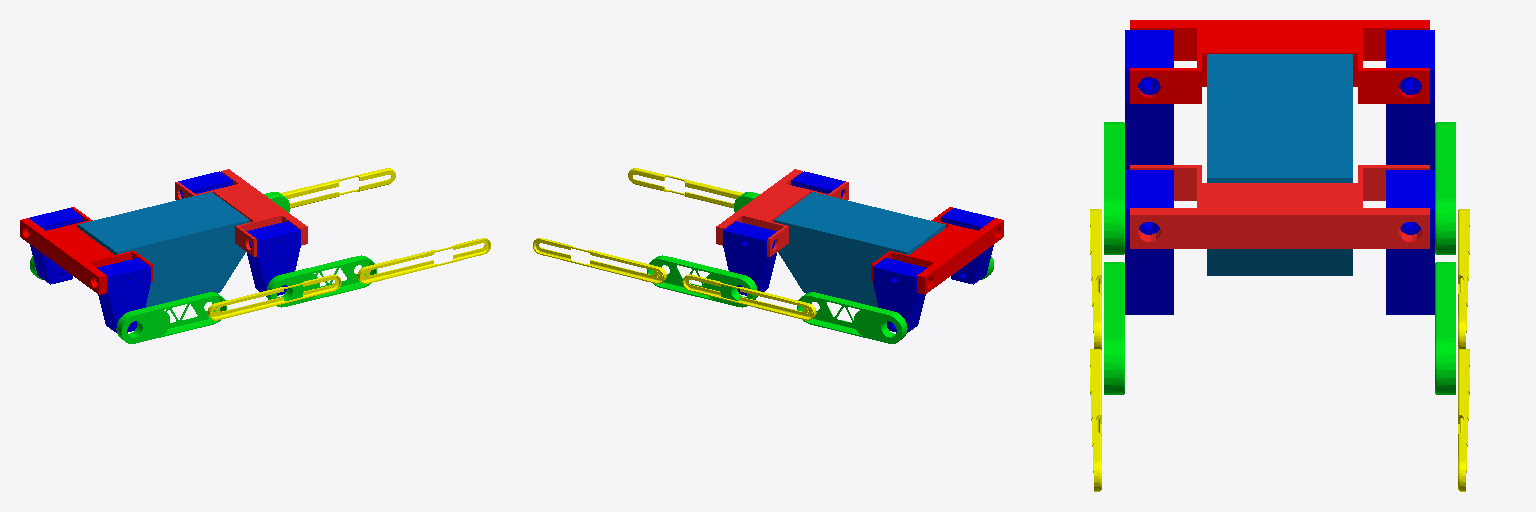
The robot description file, URDF, robot "aragog_urdf":
<?xml version="1.0" encoding="utf-8"?>
<!-- This URDF was automatically created by SolidWorks to URDF Exporter! Originally created by [author] ([email redacted]) 
     Commit Version: 1.5.0-0-g9aa0fdb  Build Version: 1.5.7004.21443
     For more information, please see http://wiki.ros.org/sw_urdf_exporter -->
<robot
  name="aragog_urdf">
  <link
    name="base_link">
    <inertial>
      <origin
        xyz="-5.45551002226673E-17 1.34529368211767E-18 0.00531609098066728"
        rpy="0 0 0" />
      <mass
        value="3.32238920691748" />
      <inertia
        ixx="0.00811436673472104"
        ixy="-4.30296161001022E-19"
        ixz="-1.84347865210351E-19"
        iyy="0.0180496934141333"
        iyz="1.03429844178161E-19"
        izz="0.0187962771271448" />
    </inertial>
    <visual>
      <origin
        xyz="0 0 0"
        rpy="0 0 0" />
      <geometry>
        <mesh
          filename="package://aragog_urdf/meshes/base_link.STL" />
      </geometry>
      <material
        name="blue">
        <color
          rgba="0.0392156862745098 0.490196078431373 0.709803921568627 1" />
      </material>
    </visual>
    <collision>
      <origin
        xyz="0 0 0"
        rpy="0 0 0" />
      <geometry>
        <mesh
          filename="package://aragog_urdf/meshes/base_link.STL" />
      </geometry>
    </collision>
  </link>
  <link
    name="Front_module">
    <inertial>
      <origin
        xyz="-0.0497172643592256 6.86395702539619E-17 4.85722573273506E-17"
        rpy="0 0 0" />
      <mass
        value="0.376403583442598" />
      <inertia
        ixx="0.00122457497789135"
        ixy="2.18535755074101E-19"
        ixz="-1.53202230184357E-20"
        iyy="0.000273263744958828"
        iyz="1.62050311598109E-19"
        izz="0.00143195312999982" />
    </inertial>
    <visual>
      <origin
        xyz="0 0 0"
        rpy="0 0 0" />
      <geometry>
        <mesh
          filename="package://aragog_urdf/meshes/Front_module.STL" />
      </geometry>
      <material
        name="">
        <color
          rgba="1 0 0 1" />
      </material>
    </visual>
    <collision>
      <origin
        xyz="0 0 0"
        rpy="0 0 0" />
      <geometry>
        <mesh
          filename="package://aragog_urdf/meshes/Front_module.STL" />
      </geometry>
    </collision>
  </link>
  <joint
    name="FM_joint"
    type="revolute">
    <origin
      xyz="-0.115 0 0.042"
      rpy="0 0 0" />
    <parent
      link="base_link" />
    <child
      link="Front_module" />
    <axis
      xyz="0 1 0" />
    <limit
      lower="-3.14"
      upper="3.14"
      effort="0"
      velocity="0" />
    <safety_controller
      k_velocity="0" />
  </joint>
  <link
    name="FLA">
    <inertial>
      <origin
        xyz="-0.0278699932792812 -0.0349280778773409 1.06796636395456E-08"
        rpy="0 0 0" />
      <mass
        value="0.295029754126894" />
      <inertia
        ixx="0.000309535633973418"
        ixy="-5.80478947344437E-11"
        ixz="1.43627711665173E-11"
        iyy="0.000169221307104425"
        iyz="-1.00079234323134E-11"
        izz="0.000390392374765467" />
    </inertial>
    <visual>
      <origin
        xyz="0 0 0"
        rpy="0 0 0" />
      <geometry>
        <mesh
          filename="package://aragog_urdf/meshes/FLA.STL" />
      </geometry>
      <material
        name="">
        <color
          rgba="0 0 1 1" />
      </material>
    </visual>
    <collision>
      <origin
        xyz="0 0 0"
        rpy="0 0 0" />
      <geometry>
        <mesh
          filename="package://aragog_urdf/meshes/FLA.STL" />
      </geometry>
    </collision>
  </link>
  <joint
    name="FLA_joint"
    type="revolute">
    <origin
      xyz="0 -0.11275 0"
      rpy="1.5707963267949 0 0" />
    <parent
      link="Front_module" />
    <child
      link="FLA" />
    <axis
      xyz="1 0 0" />
    <limit
      lower="-3.14"
      upper="3.14"
      effort="0"
      velocity="0" />
    <safety_controller
      k_velocity="0" />
  </joint>
  <link
    name="FLH">
    <inertial>
      <origin
        xyz="2.12419992786303E-05 -0.0411680002134707 0.00875381508802056"
        rpy="0 0 0" />
      <mass
        value="0.08" />
      <inertia
        ixx="0.000181237968458974"
        ixy="8.77373051205217E-08"
        ixz="1.54511395588275E-08"
        iyy="2.6110291682208E-05"
        iyz="-2.67712058288425E-06"
        izz="0.000202371902016721" />
    </inertial>
    <visual>
      <origin
        xyz="0 0 0"
        rpy="0 0 0" />
      <geometry>
        <mesh
          filename="package://aragog_urdf/meshes/FLH.STL" />
      </geometry>
      <material
        name="">
        <color
          rgba="0 0.937254901960784 0.125490196078431 1" />
      </material>
    </visual>
    <collision>
      <origin
        xyz="0 0 0"
        rpy="0 0 0" />
      <geometry>
        <mesh
          filename="package://aragog_urdf/meshes/FLH.STL" />
      </geometry>
    </collision>
  </link>
  <joint
    name="FLH_joint"
    type="revolute">
    <origin
      xyz="-0.0278699999999998 -0.0830127664691537 0.021"
      rpy="0 0 1.5707963267949" />
    <parent
      link="FLA" />
    <child
      link="FLH" />
    <axis
      xyz="0 0 -1" />
    <limit
      lower="-3.14"
      upper="3.14"
      effort="0"
      velocity="0" />
    <safety_controller
      k_velocity="0" />
  </joint>
  <link
    name="FLK">
    <inertial>
      <origin
        xyz="3.6644108067363E-08 0.100111301705053 0.00305521968276382"
        rpy="0 0 0" />
      <mass
        value="0.0167134646126867" />
      <inertia
        ixx="0.00010038228684169"
        ixy="3.71456275042034E-13"
        ixz="-2.21427736998955E-12"
        iyy="2.07821056706645E-06"
        iyz="3.82445657532547E-07"
        izz="0.000102234595439406" />
    </inertial>
    <visual>
      <origin
        xyz="0 0 0"
        rpy="0 0 0" />
      <geometry>
        <mesh
          filename="package://aragog_urdf/meshes/FLK.STL" />
      </geometry>
      <material
        name="">
        <color
          rgba="1 1 0 1" />
      </material>
    </visual>
    <collision>
      <origin
        xyz="0 0 0"
        rpy="0 0 0" />
      <geometry>
        <mesh
          filename="package://aragog_urdf/meshes/FLK.STL" />
      </geometry>
    </collision>
  </link>
  <joint
    name="FLK_joint"
    type="revolute">
    <origin
      xyz="0 -0.15 0.02"
      rpy="0 0 3.14159265358979" />
    <parent
      link="FLH" />
    <child
      link="FLK" />
    <axis
      xyz="0 0 1" />
    <limit
      lower="-3.14"
      upper="3.14"
      effort="0"
      velocity="0" />
    <safety_controller
      k_velocity="0" />
  </joint>
  <link
    name="FRA">
    <inertial>
      <origin
        xyz="-0.0278699932792812 -0.0349280778773409 1.06796637089346E-08"
        rpy="0 0 0" />
      <mass
        value="0.295029754126894" />
      <inertia
        ixx="0.000309535633973418"
        ixy="-5.80478947169105E-11"
        ixz="1.43627711554638E-11"
        iyy="0.000169221307104425"
        iyz="-1.00079234263126E-11"
        izz="0.000390392374765467" />
    </inertial>
    <visual>
      <origin
        xyz="0 0 0"
        rpy="0 0 0" />
      <geometry>
        <mesh
          filename="package://aragog_urdf/meshes/FRA.STL" />
      </geometry>
      <material
        name="">
        <color
          rgba="0 0 1 1" />
      </material>
    </visual>
    <collision>
      <origin
        xyz="0 0 0"
        rpy="0 0 0" />
      <geometry>
        <mesh
          filename="package://aragog_urdf/meshes/FRA.STL" />
      </geometry>
    </collision>
  </link>
  <joint
    name="FRA_joint"
    type="revolute">
    <origin
      xyz="0 0.11275 0"
      rpy="1.5707963267949 0 0" />
    <parent
      link="Front_module" />
    <child
      link="FRA" />
    <axis
      xyz="1 0 0" />
    <limit
      lower="-3.14"
      upper="3.14"
      effort="0"
      velocity="0" />
    <safety_controller
      k_velocity="0" />
  </joint>
  <link
    name="FRH">
    <inertial>
      <origin
        xyz="-2.12419992784707E-05 -0.0411680002134707 -0.00875381508802756"
        rpy="0 0 0" />
      <mass
        value="0.08" />
      <inertia
        ixx="0.000181237968458974"
        ixy="-8.77373051204196E-08"
        ixz="1.54511395588163E-08"
        iyy="2.6110291682208E-05"
        iyz="2.67712058288413E-06"
        izz="0.000202371902016721" />
    </inertial>
    <visual>
      <origin
        xyz="0 0 0"
        rpy="0 0 0" />
      <geometry>
        <mesh
          filename="package://aragog_urdf/meshes/FRH.STL" />
      </geometry>
      <material
        name="">
        <color
          rgba="0 0.937254901960784 0.125490196078431 1" />
      </material>
    </visual>
    <collision>
      <origin
        xyz="0 0 0"
        rpy="0 0 0" />
      <geometry>
        <mesh
          filename="package://aragog_urdf/meshes/FRH.STL" />
      </geometry>
    </collision>
  </link>
  <joint
    name="FRH_joint"
    type="revolute">
    <origin
      xyz="-0.0278699999999998 -0.0830127664691537 -0.021"
      rpy="0 0 1.5707963267949" />
    <parent
      link="FRA" />
    <child
      link="FRH" />
    <axis
      xyz="0 0 -1" />
    <limit
      lower="-3.14"
      upper="3.14"
      effort="0"
      velocity="0" />
    <safety_controller
      k_velocity="0" />
  </joint>
  <link
    name="FRK">
    <inertial>
      <origin
        xyz="-3.66441086710467E-08 0.100111301705053 -0.00305521968276384"
        rpy="0 0 0" />
      <mass
        value="0.0167134646126866" />
      <inertia
        ixx="0.00010038228684169"
        ixy="-3.7145593913377E-13"
        ixz="-2.21427736900092E-12"
        iyy="2.07821056706645E-06"
        iyz="-3.82445657532456E-07"
        izz="0.000102234595439406" />
    </inertial>
    <visual>
      <origin
        xyz="0 0 0"
        rpy="0 0 0" />
      <geometry>
        <mesh
          filename="package://aragog_urdf/meshes/FRK.STL" />
      </geometry>
      <material
        name="">
        <color
          rgba="1 1 0 1" />
      </material>
    </visual>
    <collision>
      <origin
        xyz="0 0 0"
        rpy="0 0 0" />
      <geometry>
        <mesh
          filename="package://aragog_urdf/meshes/FRK.STL" />
      </geometry>
    </collision>
  </link>
  <joint
    name="FRK_joint"
    type="revolute">
    <origin
      xyz="0 -0.15 -0.0200000000000002"
      rpy="0 0 3.14159265358979" />
    <parent
      link="FRH" />
    <child
      link="FRK" />
    <axis
      xyz="0 0 1" />
    <limit
      lower="-3.14"
      upper="3.14"
      effort="0"
      velocity="0" />
    <safety_controller
      k_velocity="0" />
  </joint>
  <link
    name="Back_module">
    <inertial>
      <origin
        xyz="0.0497172643592256 7.87660632798329E-17 0"
        rpy="0 0 0" />
      <mass
        value="0.376403583442599" />
      <inertia
        ixx="0.00122457497789136"
        ixy="-4.00655797350407E-19"
        ixz="-1.36787983258632E-20"
        iyy="0.000273263744958829"
        iyz="2.59747855753548E-20"
        izz="0.00143195312999983" />
    </inertial>
    <visual>
      <origin
        xyz="0 0 0"
        rpy="0 0 0" />
      <geometry>
        <mesh
          filename="package://aragog_urdf/meshes/Back_module.STL" />
      </geometry>
      <material
        name="">
        <color
          rgba="1 0.168627450980392 0.168627450980392 1" />
      </material>
    </visual>
    <collision>
      <origin
        xyz="0 0 0"
        rpy="0 0 0" />
      <geometry>
        <mesh
          filename="package://aragog_urdf/meshes/Back_module.STL" />
      </geometry>
    </collision>
  </link>
  <joint
    name="BM_joint"
    type="revolute">
    <origin
      xyz="0.115 0 0.042"
      rpy="0 0 0" />
    <parent
      link="base_link" />
    <child
      link="Back_module" />
    <axis
      xyz="0 1 0" />
    <limit
      lower="-3.14"
      upper="3.14"
      effort="0"
      velocity="0" />
    <safety_controller
      k_velocity="0" />
  </joint>
  <link
    name="BLA">
    <inertial>
      <origin
        xyz="0.0278700067207168 -0.0349280778773408 1.06796638615902E-08"
        rpy="0 0 0" />
      <mass
        value="0.295029754126894" />
      <inertia
        ixx="0.000309535633973418"
        ixy="-5.80478947641281E-11"
        ixz="1.43627711663126E-11"
        iyy="0.000169221307104425"
        iyz="-1.00079234311191E-11"
        izz="0.000390392374765467" />
    </inertial>
    <visual>
      <origin
        xyz="0 0 0"
        rpy="0 0 0" />
      <geometry>
        <mesh
          filename="package://aragog_urdf/meshes/BLA.STL" />
      </geometry>
      <material
        name="">
        <color
          rgba="0 0 1 1" />
      </material>
    </visual>
    <collision>
      <origin
        xyz="0 0 0"
        rpy="0 0 0" />
      <geometry>
        <mesh
          filename="package://aragog_urdf/meshes/BLA.STL" />
      </geometry>
    </collision>
  </link>
  <joint
    name="BLA_joint"
    type="revolute">
    <origin
      xyz="0 -0.11275 0"
      rpy="1.5707963267949 0 0" />
    <parent
      link="Back_module" />
    <child
      link="BLA" />
    <axis
      xyz="1 0 0" />
    <limit
      lower="-3.14"
      upper="3.14"
      effort="0"
      velocity="0" />
    <safety_controller
      k_velocity="0" />
  </joint>
  <link
    name="BLH">
    <inertial>
      <origin
        xyz="2.12440008776765E-05 -0.041168005929885 0.00875381452700574"
        rpy="0 0 0" />
      <mass
        value="0.08" />
      <inertia
        ixx="0.000181238000146866"
        ixy="8.77467255772021E-08"
        ixz="1.54521079081354E-08"
        iyy="2.61102953867185E-05"
        iyz="-2.67712322281538E-06"
        izz="0.000202371936879135" />
    </inertial>
    <visual>
      <origin
        xyz="0 0 0"
        rpy="0 0 0" />
      <geometry>
        <mesh
          filename="package://aragog_urdf/meshes/BLH.STL" />
      </geometry>
      <material
        name="">
        <color
          rgba="0 0.937254901960784 0.125490196078431 1" />
      </material>
    </visual>
    <collision>
      <origin
        xyz="0 0 0"
        rpy="0 0 0" />
      <geometry>
        <mesh
          filename="package://aragog_urdf/meshes/BLH.STL" />
      </geometry>
    </collision>
  </link>
  <joint
    name="BLH_joint"
    type="revolute">
    <origin
      xyz="0.02787 -0.083013 0.021"
      rpy="0 0 1.5708" />
    <parent
      link="BLA" />
    <child
      link="BLH" />
    <axis
      xyz="0 0 -1" />
    <limit
      lower="-3.14"
      upper="3.14"
      effort="0"
      velocity="0" />
    <safety_controller
      k_velocity="0" />
  </joint>
  <link
    name="BLK">
    <inertial>
      <origin
        xyz="3.6644E-08 0.10011 0.0030552"
        rpy="0 0 0" />
      <mass
        value="0.016713" />
      <inertia
        ixx="0.00010038"
        ixy="3.7146E-13"
        ixz="-2.2143E-12"
        iyy="2.0782E-06"
        iyz="3.8245E-07"
        izz="0.00010223" />
    </inertial>
    <visual>
      <origin
        xyz="0 0 0"
        rpy="0 0 0" />
      <geometry>
        <mesh
          filename="package://aragog_urdf/meshes/BLK.STL" />
      </geometry>
      <material
        name="">
        <color
          rgba="1 1 0 1" />
      </material>
    </visual>
    <collision>
      <origin
        xyz="0 0 0"
        rpy="0 0 0" />
      <geometry>
        <mesh
          filename="package://aragog_urdf/meshes/BLK.STL" />
      </geometry>
    </collision>
  </link>
  <joint
    name="BLK_joint"
    type="revolute">
    <origin
      xyz="0 -0.149999999999998 0.02"
      rpy="0 0 3.14159265358978" />
    <parent
      link="BLH" />
    <child
      link="BLK" />
    <axis
      xyz="0 0 1" />
    <limit
      lower="-3.14"
      upper="3.14"
      effort="0"
      velocity="0" />
    <safety_controller
      k_velocity="0" />
  </joint>
  <link
    name="BRA">
    <inertial>
      <origin
        xyz="0.0278700067207183 -0.0349280778773409 1.0679663681179E-08"
        rpy="0 0 0" />
      <mass
        value="0.295029754126894" />
      <inertia
        ixx="0.000309535633973418"
        ixy="-5.80478947917704E-11"
        ixz="1.43627711660787E-11"
        iyy="0.000169221307104425"
        iyz="-1.00079234338835E-11"
        izz="0.000390392374765467" />
    </inertial>
    <visual>
      <origin
        xyz="0 0 0"
        rpy="0 0 0" />
      <geometry>
        <mesh
          filename="package://aragog_urdf/meshes/BRA.STL" />
      </geometry>
      <material
        name="">
        <color
          rgba="0 0 1 1" />
      </material>
    </visual>
    <collision>
      <origin
        xyz="0 0 0"
        rpy="0 0 0" />
      <geometry>
        <mesh
          filename="package://aragog_urdf/meshes/BRA.STL" />
      </geometry>
    </collision>
  </link>
  <joint
    name="BRA_joint"
    type="revolute">
    <origin
      xyz="0 0.11275 0"
      rpy="1.5707963267949 0 0" />
    <parent
      link="Back_module" />
    <child
      link="BRA" />
    <axis
      xyz="1 0 0" />
    <limit
      lower="-3.14"
      upper="3.14"
      effort="0"
      velocity="0" />
    <safety_controller
      k_velocity="0" />
  </joint>
  <link
    name="BRH">
    <inertial>
      <origin
        xyz="-2.12423345357649E-05 -0.0411680011324299 -0.00875381500475839"
        rpy="0 0 0" />
      <mass
        value="0.08" />
      <inertia
        ixx="0.00018123797352175"
        ixy="-8.77388606656854E-08"
        ixz="1.54512891336484E-08"
        iyy="2.61102923072211E-05"
        iyz="2.67712096593016E-06"
        izz="0.000202371907637502" />
    </inertial>
    <visual>
      <origin
        xyz="0 0 0"
        rpy="0 0 0" />
      <geometry>
        <mesh
          filename="package://aragog_urdf/meshes/BRH.STL" />
      </geometry>
      <material
        name="">
        <color
          rgba="0 0.937254901960784 0.125490196078431 1" />
      </material>
    </visual>
    <collision>
      <origin
        xyz="0 0 0"
        rpy="0 0 0" />
      <geometry>
        <mesh
          filename="package://aragog_urdf/meshes/BRH.STL" />
      </geometry>
    </collision>
  </link>
  <joint
    name="BRH_joint"
    type="revolute">
    <origin
      xyz="0.0278699999999998 -0.0830127664691537 -0.0209999999999999"
      rpy="0 0 1.5707963267949" />
    <parent
      link="BRA" />
    <child
      link="BRH" />
    <axis
      xyz="0 0 -1" />
    <limit
      lower="-3.14"
      upper="3.14"
      effort="0"
      velocity="0" />
    <safety_controller
      k_velocity="0" />
  </joint>
  <link
    name="BRK">
    <inertial>
      <origin
        xyz="-3.66441077551127E-08 0.100111301705049 -0.00305521968276057"
        rpy="0 0 0" />
      <mass
        value="0.0167134646126867" />
      <inertia
        ixx="0.000100382286841691"
        ixy="-3.71456575225655E-13"
        ixz="-2.21427737293597E-12"
        iyy="2.07821056706646E-06"
        iyz="-3.82445657532474E-07"
        izz="0.000102234595439407" />
    </inertial>
    <visual>
      <origin
        xyz="0 0 0"
        rpy="0 0 0" />
      <geometry>
        <mesh
          filename="package://aragog_urdf/meshes/BRK.STL" />
      </geometry>
      <material
        name="">
        <color
          rgba="1 1 0 1" />
      </material>
    </visual>
    <collision>
      <origin
        xyz="0 0 0"
        rpy="0 0 0" />
      <geometry>
        <mesh
          filename="package://aragog_urdf/meshes/BRK.STL" />
      </geometry>
    </collision>
  </link>
  <joint
    name="BRK_joint"
    type="revolute">
    <origin
      xyz="0 -0.149999999999997 -0.02"
      rpy="0 0 -3.14159265358979" />
    <parent
      link="BRH" />
    <child
      link="BRK" />
    <axis
      xyz="0 0 1" />
    <limit
      lower="-3.14"
      upper="3.14"
      effort="0"
      velocity="0" />
    <safety_controller
      k_velocity="0" />
  </joint>
</robot>

--- Facts derived from the render (not from the file) ---
Views: 3 orthographic renders of the robot side by side, from view 1: azimuth 30°, elevation 25°; view 2: azimuth 150°, elevation 25°; view 3: azimuth 270°, elevation 25°.
Robot: aragog_urdf — 15 links, 14 joints (14 revolute); root link base_link; default pose: every joint at zero.
Links seen in each view (by area): view 1: base_link, Front_module, Back_module, FLH, FLA, BLA, BLH, BLK, FLK, FRA, BRK, BRA; view 2: base_link, Front_module, Back_module, FRH, FRA, BRA, BRH, BRK, FRK, FLA, BLK, BLA; view 3: base_link, Back_module, Front_module, BLA, BRA, FLA, FRA, FLH, FRH, BLH, BRH, BLK (+3 smaller).
Link boxes in pixels (box(x1,y1,x2,y2)): base_link: box(78, 192, 249, 307); Front_module: box(20, 207, 152, 294); Back_module: box(175, 169, 307, 256); FLH: box(116, 292, 226, 343); FLA: box(97, 258, 150, 332); BLA: box(247, 221, 300, 296); BLH: box(266, 255, 376, 307); BLK: box(357, 238, 490, 283); FLK: box(207, 274, 341, 320); FRA: box(29, 208, 82, 284); BRK: box(280, 168, 395, 208); BRA: box(178, 171, 232, 198); base_link: box(774, 192, 945, 307); Front_module: box(871, 207, 1003, 294); Back_module: box(716, 169, 848, 256); FRH: box(797, 292, 907, 343); FRA: box(873, 258, 926, 332); BRA: box(723, 221, 776, 296); BRH: box(647, 255, 757, 307); BRK: box(533, 238, 666, 283); FRK: box(682, 274, 816, 320); FLA: box(941, 208, 994, 284); BLK: box(628, 168, 743, 208); BLA: box(791, 171, 845, 198); base_link: box(1207, 54, 1352, 275); Back_module: box(1130, 165, 1429, 248); Front_module: box(1130, 20, 1429, 103); BLA: box(1125, 170, 1173, 314); BRA: box(1386, 170, 1434, 314); FLA: box(1125, 30, 1173, 169); FRA: box(1386, 30, 1434, 169); FLH: box(1104, 122, 1124, 254); FRH: box(1435, 122, 1455, 254); BLH: box(1104, 262, 1124, 394); BRH: box(1435, 262, 1455, 394); BLK: box(1090, 349, 1101, 491).
Bounding box of the posed robot: 0.7307 × 0.3275 × 0.127 m (x, y, z).
Meshes: 15 distinct files referenced, 15 mesh visuals loaded (15 binary STL).